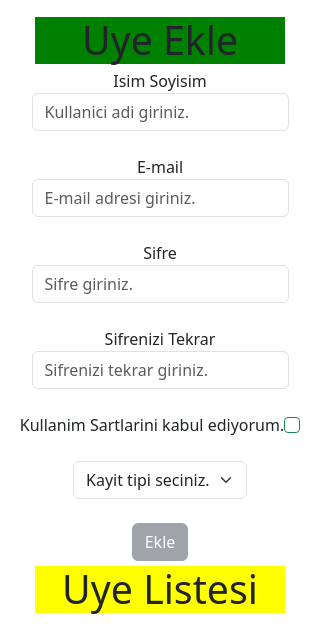
it: My First Test › Eksiksiz Form Buton Kontrol testi
Step 1. Type "Elon Musk" into the field with test id "isim-input" → [161, 112], box [32,93,289,131]
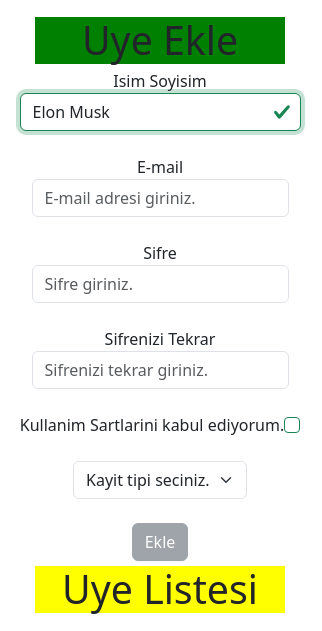
Step 2. Type "elonmusk@tesla.com" into the field with test id "email-input" → [161, 198], box [32,179,289,217]
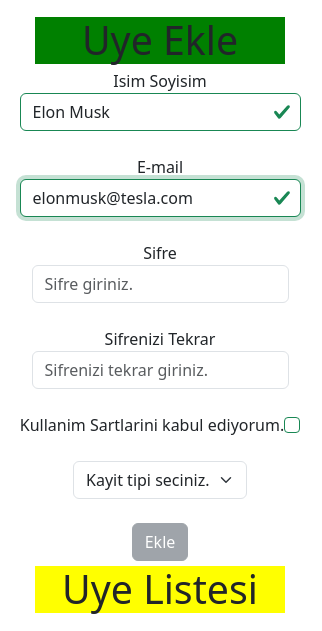
Step 3. Type "twitterrocks99" into the password field with test id "password-input" → [161, 284], box [32,265,289,303]
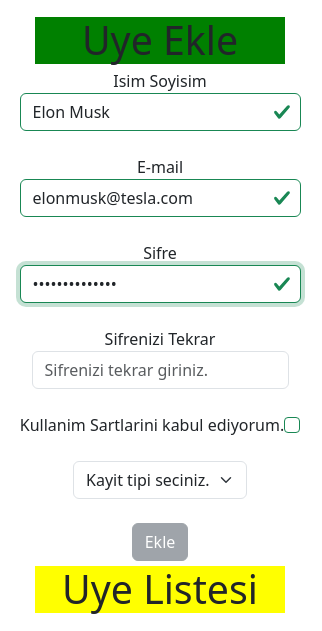
Step 4. Type "twitterrocks99" into the password field with test id "password_control-input" → [161, 370], box [32,351,289,389]
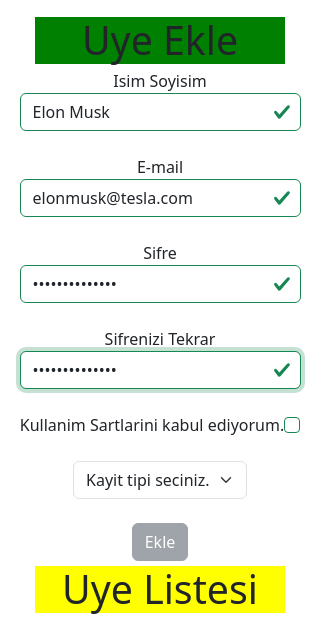
Step 5. Click the checkbox with test id "terms-input" → [299, 425], box [284,417,300,433]
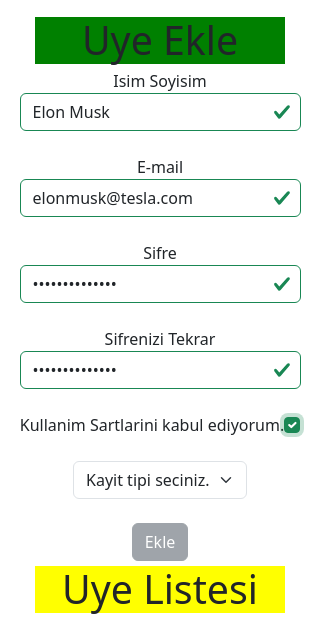
Step 6. Select "2" in the dropdown with test id "kayit_tipi-input" → [160, 480], box [73,461,247,499]
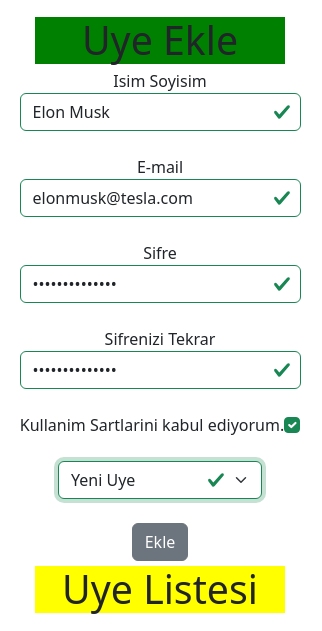
expect the button with test id "submit-button" is enabled: met, box [132,523,189,561]
